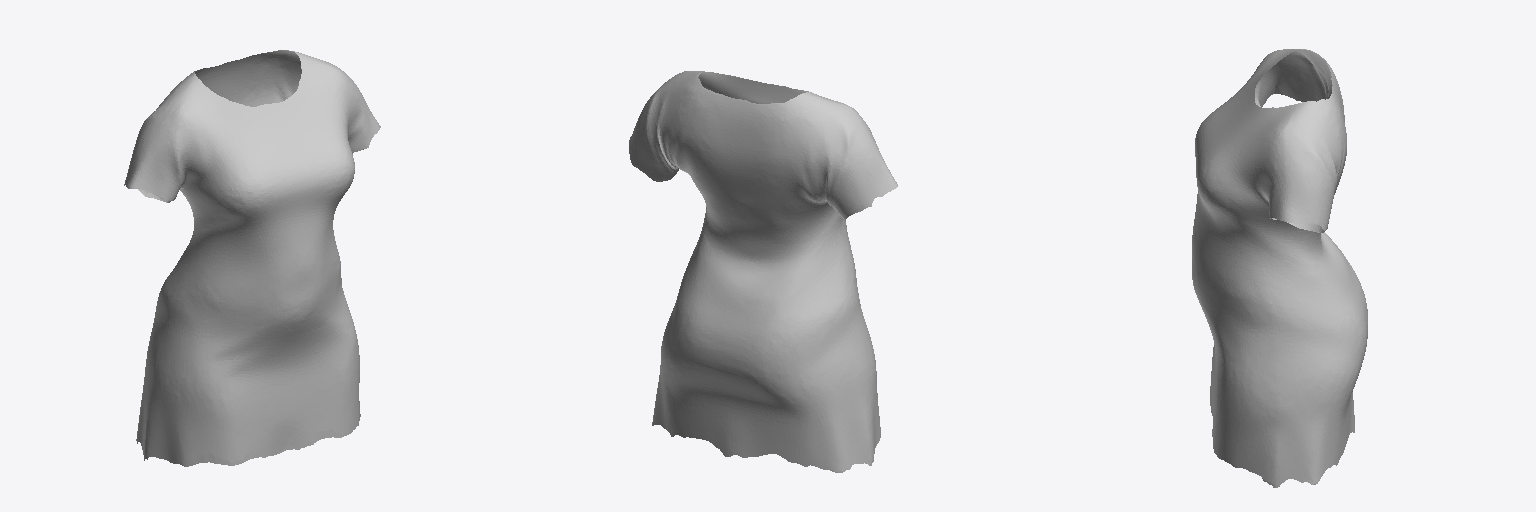
File: dress_shortsleeve.obj
3 renders of one model, left to right at view 1: azimuth 30°, elevation 25°; view 2: azimuth 150°, elevation 25°; view 3: azimuth 270°, elevation 25°, orthographic.
Parts seen in each view (by area): view 1: dress_shortsleeve1_smooth; view 2: dress_shortsleeve1_smooth; view 3: dress_shortsleeve1_smooth.
Part boxes in pixels (bbox=[...]): dress_shortsleeve1_smooth: bbox=[124, 50, 380, 466]; dress_shortsleeve1_smooth: bbox=[629, 71, 897, 472]; dress_shortsleeve1_smooth: bbox=[1192, 49, 1367, 487].
Bounding box in the file's own units: 5.26 × 7.17 × 3.12.